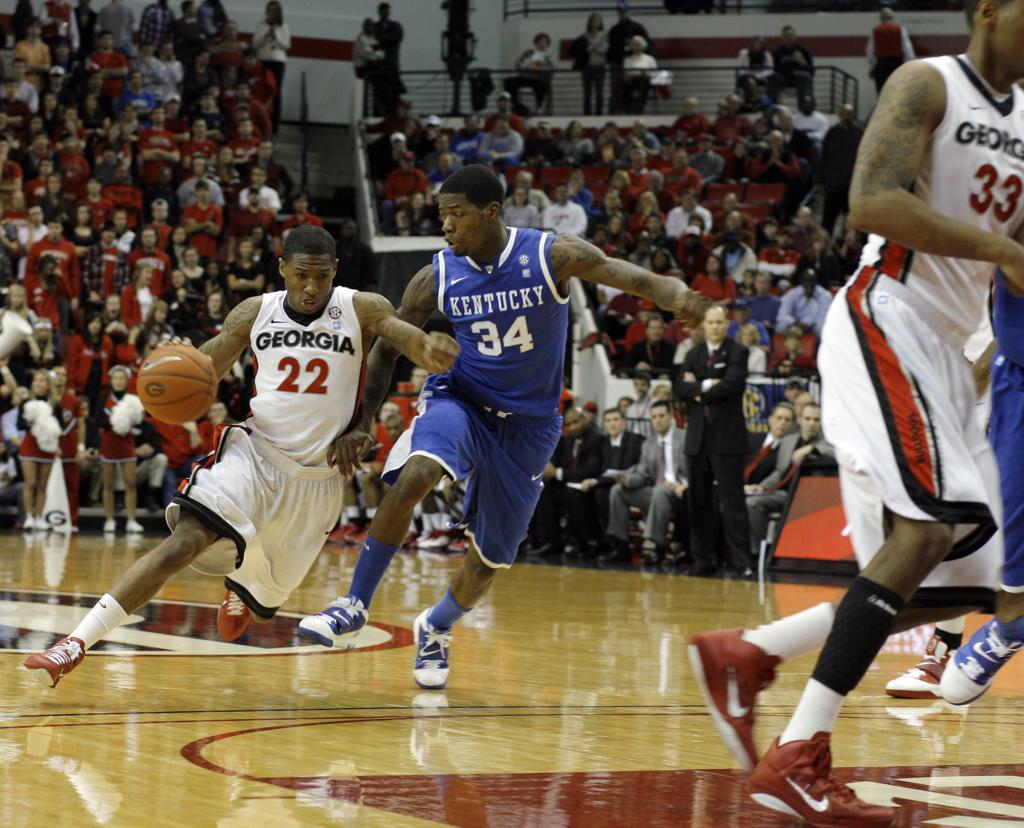face: (438, 193, 489, 257), (285, 258, 334, 314), (991, 2, 1024, 80), (705, 311, 727, 341), (771, 410, 794, 436), (802, 409, 823, 437), (651, 408, 670, 432), (567, 416, 585, 438), (606, 415, 622, 436), (788, 383, 804, 403), (388, 422, 403, 443), (786, 330, 800, 351), (12, 390, 29, 407), (648, 322, 664, 340), (112, 372, 127, 391), (211, 405, 226, 424), (382, 406, 398, 422), (735, 305, 750, 322), (89, 318, 104, 335), (11, 290, 25, 308), (37, 322, 51, 340), (48, 222, 62, 239), (674, 153, 688, 170), (663, 140, 677, 157), (756, 277, 769, 295), (33, 376, 46, 394), (52, 369, 65, 387), (108, 299, 121, 317), (343, 223, 356, 241), (630, 150, 644, 166), (741, 330, 754, 347), (208, 296, 220, 314), (612, 217, 624, 235), (635, 380, 648, 396), (621, 402, 634, 418), (30, 208, 43, 224), (115, 213, 128, 229), (143, 231, 156, 247), (155, 204, 168, 220), (90, 75, 103, 91), (689, 219, 702, 235), (700, 135, 713, 151), (801, 96, 814, 112), (814, 236, 827, 252), (140, 268, 152, 285), (727, 215, 739, 232), (643, 196, 655, 213), (49, 178, 62, 193), (240, 122, 253, 137), (764, 222, 777, 237), (647, 217, 660, 232), (517, 176, 530, 191), (770, 136, 783, 151), (783, 29, 796, 44), (172, 272, 184, 288), (241, 242, 253, 258), (295, 195, 307, 211), (683, 195, 695, 211), (602, 146, 614, 162), (404, 122, 416, 138), (398, 101, 410, 117), (88, 180, 101, 194), (236, 105, 249, 119), (193, 122, 206, 136), (167, 100, 180, 114), (109, 128, 122, 142), (707, 258, 720, 272), (514, 190, 527, 204), (438, 156, 451, 170), (401, 156, 414, 170), (497, 121, 510, 135), (734, 143, 747, 157), (799, 212, 812, 226), (421, 223, 433, 238), (779, 114, 791, 129), (843, 110, 855, 125), (155, 306, 166, 322), (261, 143, 272, 159), (655, 251, 666, 267), (780, 232, 791, 248), (427, 122, 438, 138), (238, 85, 251, 98), (569, 175, 582, 188), (40, 161, 52, 175), (29, 23, 41, 37), (556, 186, 568, 200), (685, 101, 697, 115), (618, 7, 630, 21), (194, 159, 205, 174), (221, 149, 232, 164), (45, 95, 56, 110), (88, 95, 99, 110), (724, 197, 735, 212), (412, 193, 423, 208), (397, 213, 408, 228), (1, 143, 10, 161), (79, 208, 89, 224), (173, 230, 185, 243), (202, 97, 215, 109), (124, 108, 136, 121), (131, 74, 143, 87), (30, 119, 42, 132), (393, 137, 405, 150), (632, 39, 644, 52), (537, 36, 549, 49), (742, 273, 753, 287), (584, 409, 595, 423), (186, 251, 197, 265), (253, 170, 264, 184), (58, 42, 69, 56), (6, 83, 17, 97), (15, 63, 26, 77), (162, 45, 173, 59), (226, 24, 237, 38), (65, 111, 76, 125), (606, 195, 617, 209), (438, 138, 449, 152), (467, 116, 478, 130), (606, 126, 617, 140), (35, 139, 46, 152), (101, 35, 112, 48), (616, 175, 627, 188), (635, 123, 646, 136), (727, 97, 738, 110), (78, 404, 88, 418), (33, 289, 43, 303), (250, 189, 260, 203), (198, 185, 208, 199), (105, 152, 115, 166), (64, 136, 74, 150), (53, 72, 63, 86), (267, 7, 277, 21), (245, 56, 255, 70), (727, 235, 737, 249), (804, 276, 814, 289), (116, 167, 126, 180), (154, 110, 164, 123), (199, 54, 209, 67), (594, 231, 604, 244), (500, 97, 510, 110), (571, 123, 581, 136), (756, 121, 766, 134), (253, 229, 262, 243), (142, 48, 151, 62), (44, 265, 55, 276), (159, 171, 170, 182), (639, 235, 649, 247), (751, 37, 761, 49), (105, 227, 114, 240), (539, 125, 548, 138), (591, 15, 600, 28), (207, 265, 216, 276), (228, 67, 237, 78), (367, 22, 376, 33), (189, 4, 197, 15), (381, 8, 389, 19)
